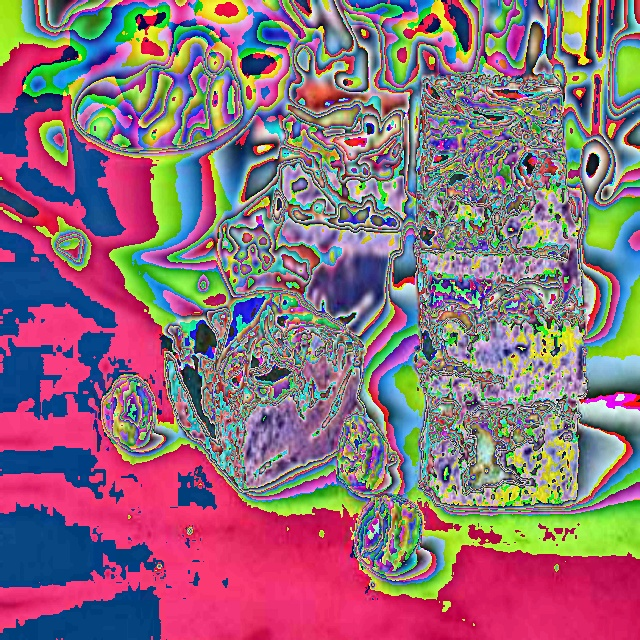background: (178, 68, 588, 508), (69, 82, 423, 574), (164, 78, 410, 492), (55, 75, 156, 450), (85, 19, 240, 150)
